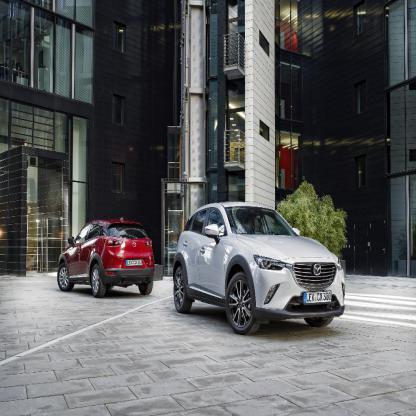Car: (173, 202, 345, 335), (57, 216, 155, 298)
